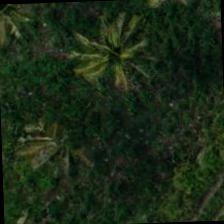Kelapa_Sawit: (68, 6, 162, 100), (64, 13, 158, 106), (20, 102, 113, 195)
